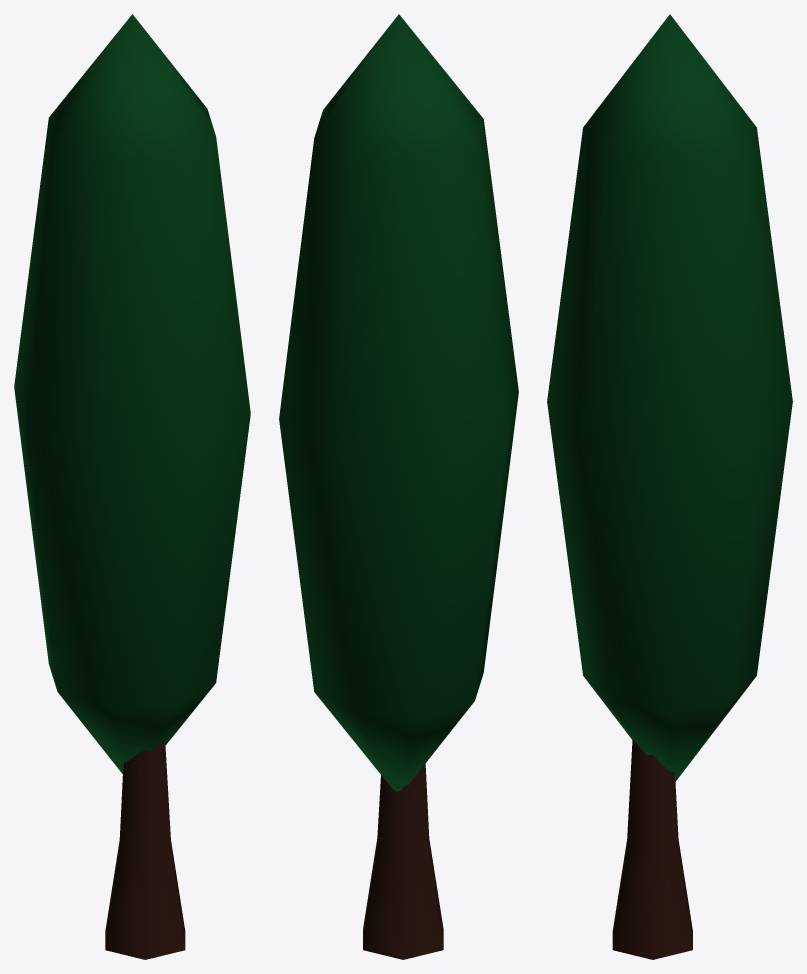
File: tree_long.FBX
3 renders of one model, left to right at view 1: azimuth 30°, elevation 25°; view 2: azimuth 150°, elevation 25°; view 3: azimuth 270°, elevation 25°, orthographic.
Visible parts, largest first — view 1: Trunk003; view 2: Trunk003; view 3: Trunk003.
Part boxes in pixels (box(x1,y1,x2,y2)): Trunk003: box(14, 14, 250, 959); Trunk003: box(279, 14, 518, 959); Trunk003: box(547, 14, 792, 959).
Bounding box in the file's own units: 30.3 × 30.3 × 126.
